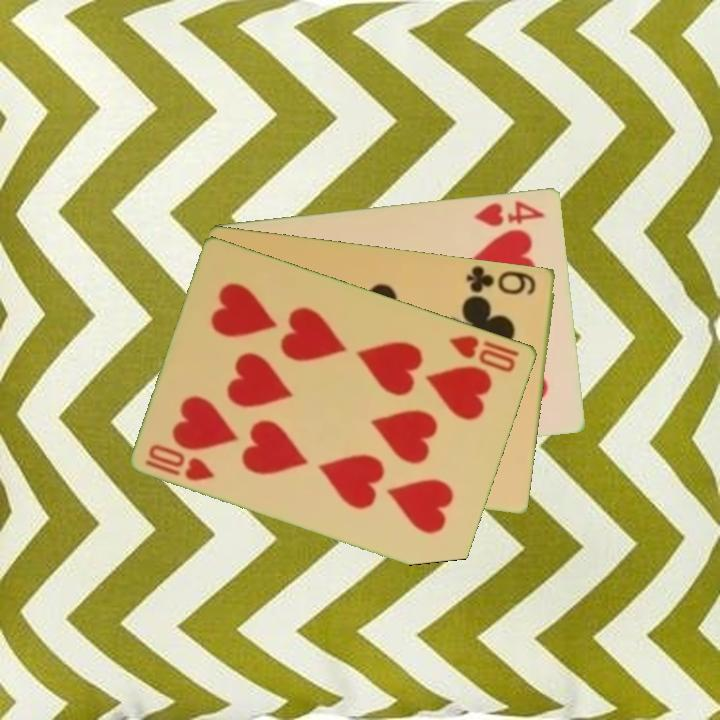10h: (142, 440, 218, 484), (446, 331, 519, 375)
4h: (471, 197, 547, 229)
6c: (463, 261, 540, 298)
